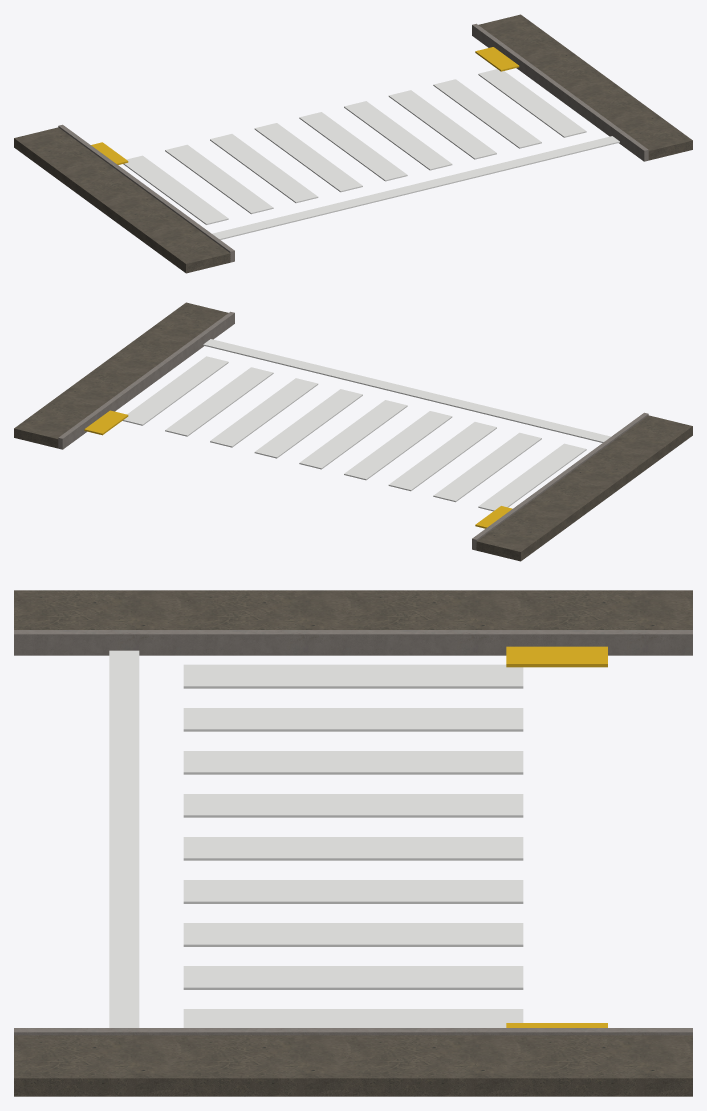
File: OT_Crosswalk.glb
The picture shows the model from 3 angles, top to bottom: view 1: azimuth 30°, elevation 25°; view 2: azimuth 150°, elevation 25°; view 3: azimuth 270°, elevation 25°; orthographic projection. The views are drawn at different scales.
Visible parts, largest first — view 1: OT_Crosswalk_PaintWhite__f0f0ee, OT_Crosswalk_Sidewalk, OT_Crosswalk_Concrete, OT_Crosswalk_Tactile__e8b81e; view 2: OT_Crosswalk_PaintWhite__f0f0ee, OT_Crosswalk_Sidewalk, OT_Crosswalk_Concrete, OT_Crosswalk_Tactile__e8b81e; view 3: OT_Crosswalk_PaintWhite__f0f0ee, OT_Crosswalk_Sidewalk, OT_Crosswalk_Concrete, OT_Crosswalk_Tactile__e8b81e.
Part boxes in pixels (x1,y1,x2,y2): OT_Crosswalk_PaintWhite__f0f0ee: (123,69,619,239); OT_Crosswalk_Sidewalk: (14,14,692,273); OT_Crosswalk_Concrete: (58,23,648,262); OT_Crosswalk_Tactile__e8b81e: (91,47,519,164); OT_Crosswalk_PaintWhite__f0f0ee: (122,339,610,511); OT_Crosswalk_Sidewalk: (14,302,692,561); OT_Crosswalk_Concrete: (58,311,648,550); OT_Crosswalk_Tactile__e8b81e: (84,410,512,528); OT_Crosswalk_PaintWhite__f0f0ee: (109,650,523,1027); OT_Crosswalk_Sidewalk: (14,590,692,1096); OT_Crosswalk_Concrete: (14,630,692,1035); OT_Crosswalk_Tactile__e8b81e: (506,646,607,1027).
Size of the model in its own units: 13.6 by 0.28 by 8.
Materials: 4 (2 with a texture image).
